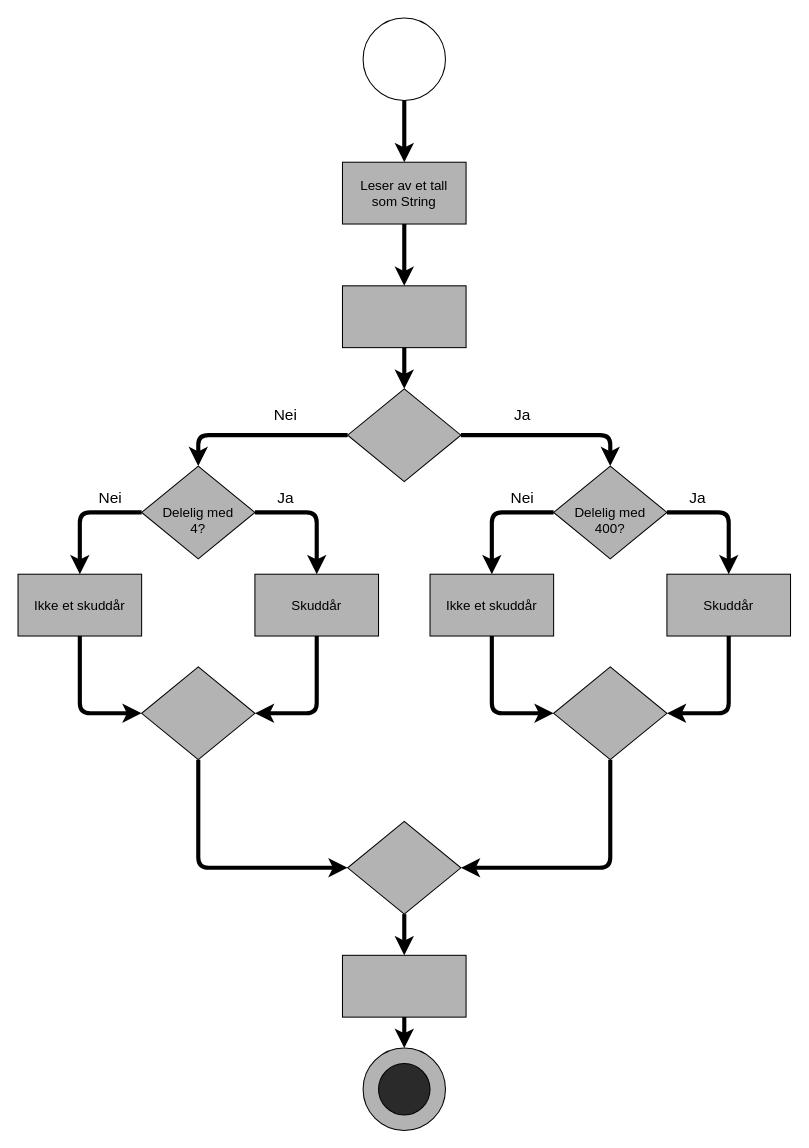
This 809x1148 diagram has some shape labels left out. Here are the shapes that lost their labels. From the top down, the centre of each, then its label:
At point 403,316: "Gjør om tallet ifra tekst til tall".
At point 404,435: "Delelig med 100?".
At point 403,985: "Skriver ut resultatet".
